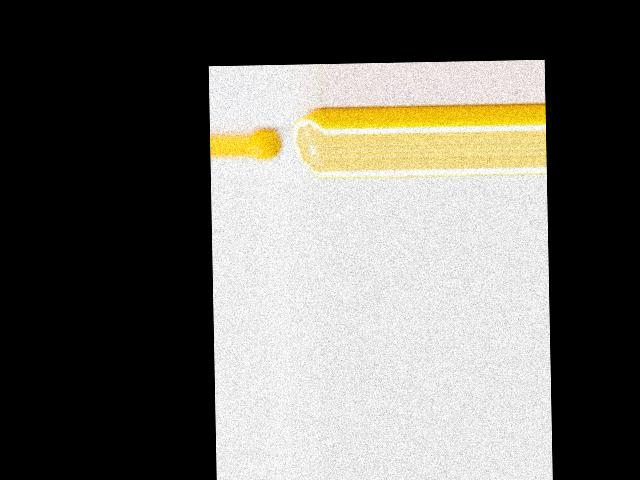lemon: (248, 130, 281, 158)
